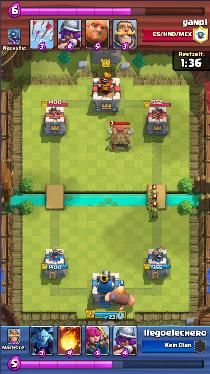ETesla: (108, 126, 132, 150)
OEVWizard: (147, 201, 160, 210), (147, 189, 159, 198), (150, 209, 159, 219)
